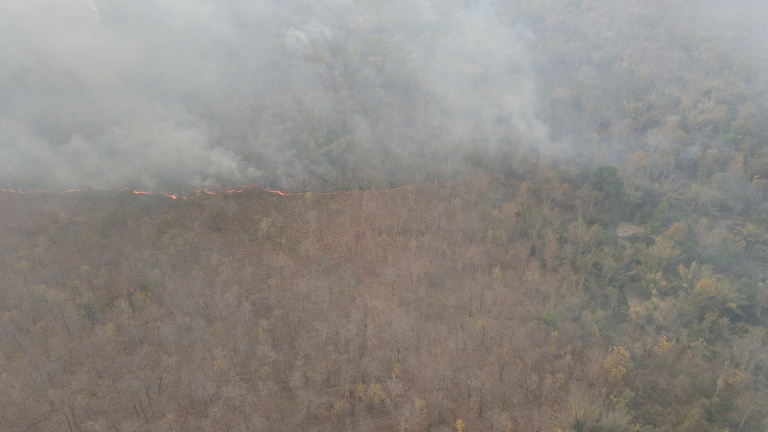fire: (1, 177, 500, 197)
smoke: (3, 1, 523, 185), (521, 1, 762, 252)
